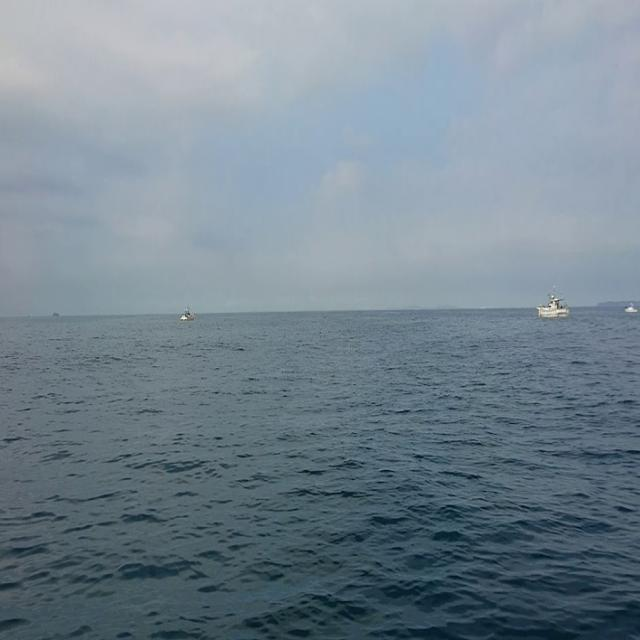houseboat: (532, 282, 572, 334)
